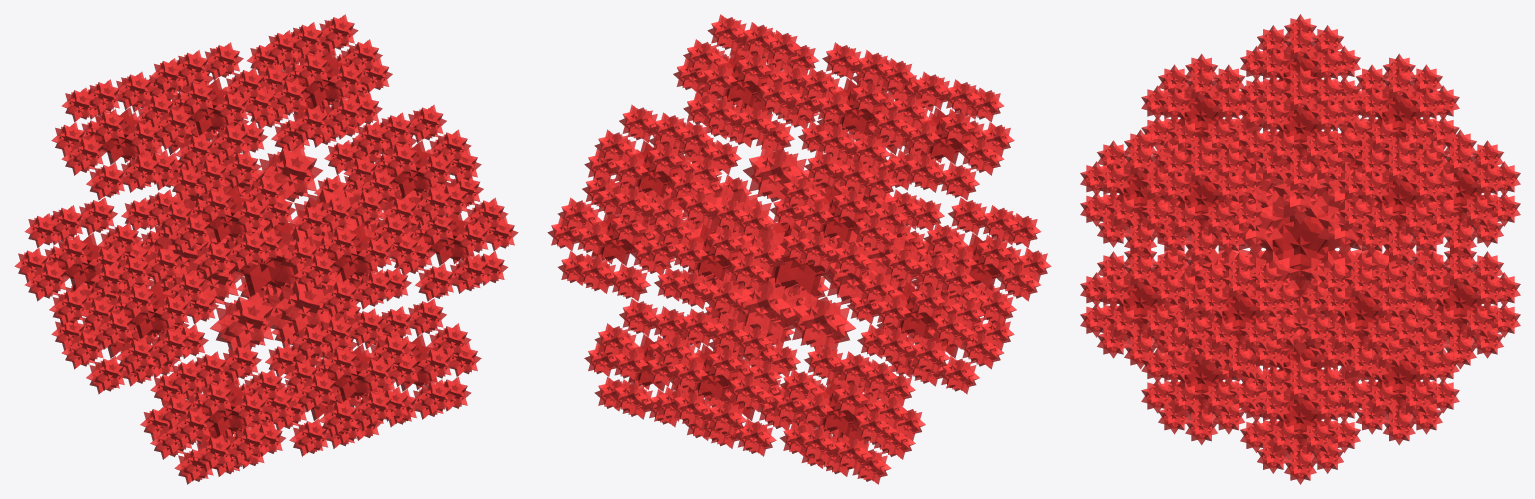
The model's file is fractalgreatrhombictriacontahedron2.glb.
3 views of the same model, side by side, from view 1: azimuth 30°, elevation 25°; view 2: azimuth 150°, elevation 25°; view 3: azimuth 270°, elevation 25° (orthographic). The views are drawn at different scales.
Size of the model in its own units: 11.17 by 11.17 by 11.17.
